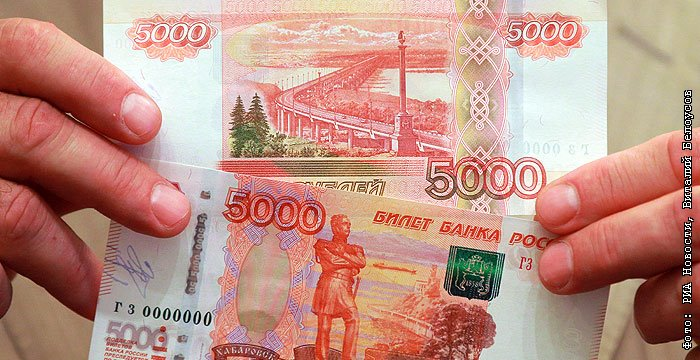cash: (103, 1, 608, 215), (89, 158, 606, 360)
